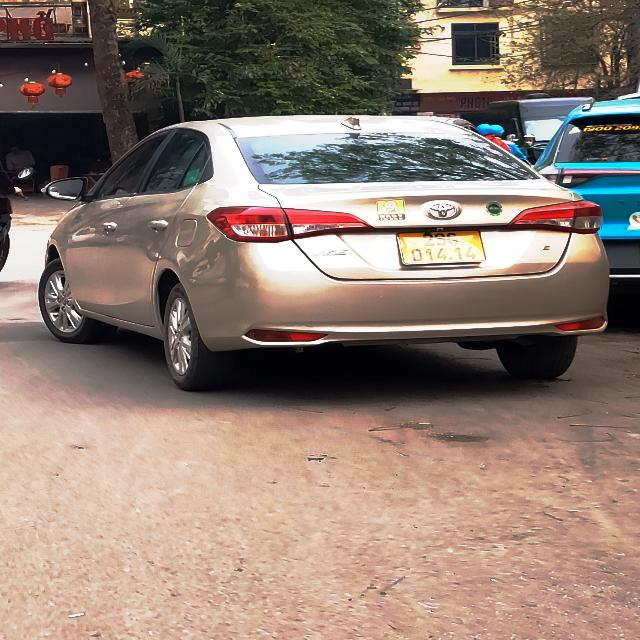license_plate: (399, 231, 487, 265)
